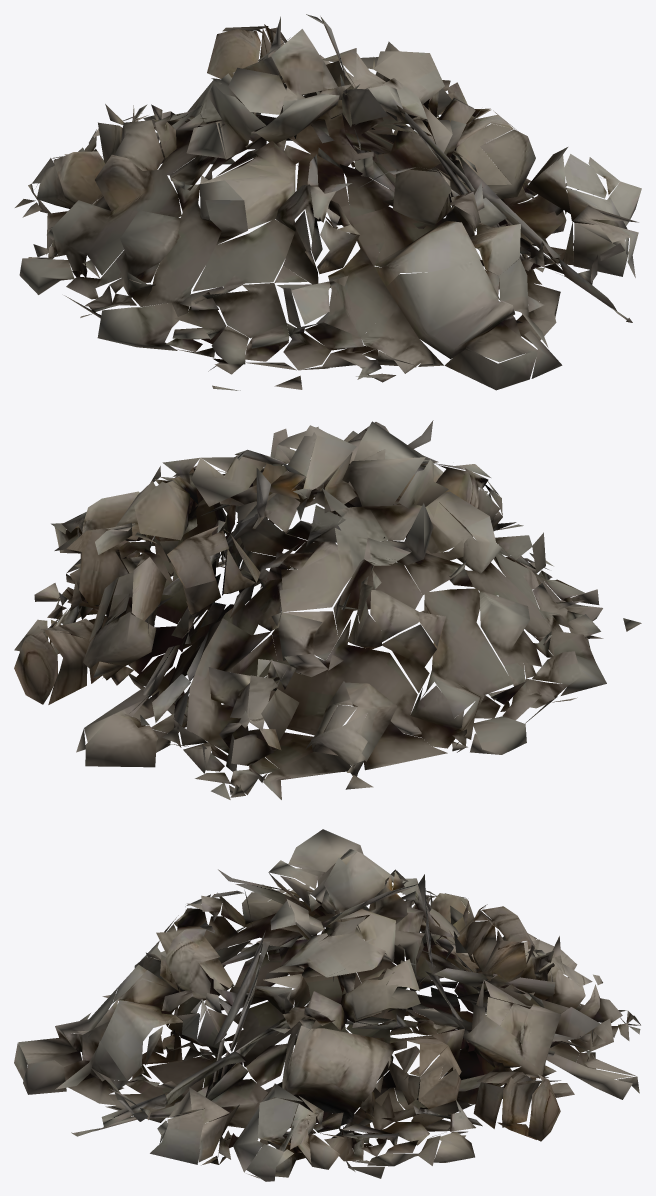
Rendered from penn_rubble.glb.
The picture shows the model from 3 angles, top to bottom: view 1: azimuth 30°, elevation 25°; view 2: azimuth 150°, elevation 25°; view 3: azimuth 270°, elevation 25°; orthographic projection. The views are drawn at different scales.
Visible parts, largest first — view 1: tripo_node_6fb28d81-3ed1-4e37-8897-1ecff8ec359b; view 2: tripo_node_6fb28d81-3ed1-4e37-8897-1ecff8ec359b; view 3: tripo_node_6fb28d81-3ed1-4e37-8897-1ecff8ec359b.
Part boxes in pixels (left/top/right/bottom): tripo_node_6fb28d81-3ed1-4e37-8897-1ecff8ec359b: left=15, top=14, right=641, bottom=390; tripo_node_6fb28d81-3ed1-4e37-8897-1ecff8ec359b: left=14, top=420, right=641, bottom=799; tripo_node_6fb28d81-3ed1-4e37-8897-1ecff8ec359b: left=14, top=829, right=640, bottom=1181.
Size of the model in its own units: 0.9096 by 0.3832 by 0.9937.
1 material, 1 textured.
